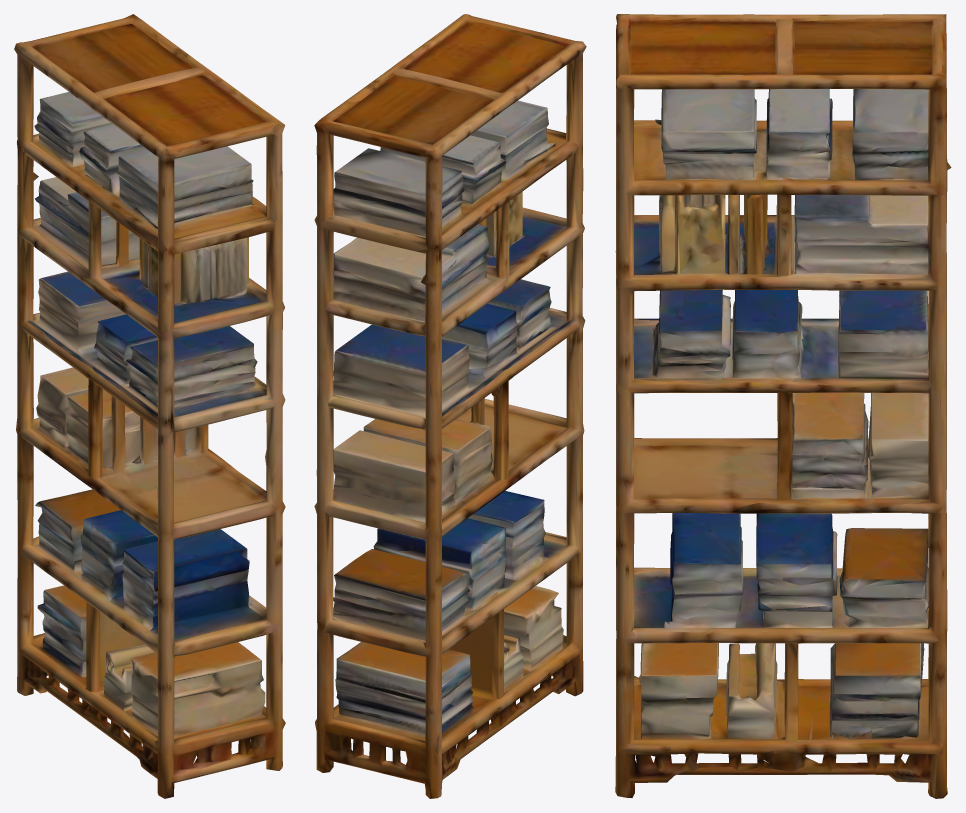
The model's file is shujia.glb.
The picture shows the model from 3 angles, left to right: view 1: azimuth 30°, elevation 25°; view 2: azimuth 150°, elevation 25°; view 3: azimuth 270°, elevation 25°; orthographic projection. The views are drawn at different scales.
Parts seen in each view (by area): view 1: tripo_node_b39f6b14-0351-4d12-b400-009cc16b37ac; view 2: tripo_node_b39f6b14-0351-4d12-b400-009cc16b37ac; view 3: tripo_node_b39f6b14-0351-4d12-b400-009cc16b37ac.
Boxes of the visible parts, left/top/right/bottom form: tripo_node_b39f6b14-0351-4d12-b400-009cc16b37ac: left=14, top=14, right=285, bottom=798; tripo_node_b39f6b14-0351-4d12-b400-009cc16b37ac: left=314, top=14, right=586, bottom=798; tripo_node_b39f6b14-0351-4d12-b400-009cc16b37ac: left=615, top=14, right=951, bottom=798.
Size of the model in its own units: 0.2018 by 1 by 0.4224.
Materials: 1 (1 with a texture image).
